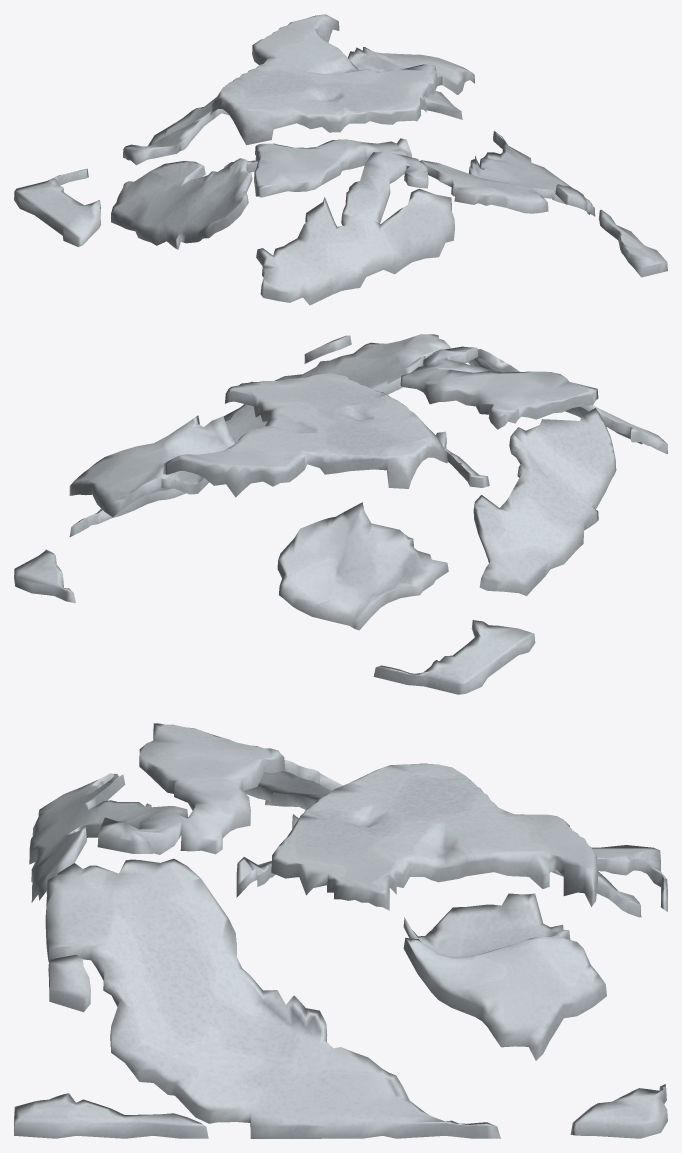
The model's file is Canions_2_Snow.fbx.
The picture shows the model from 3 angles, top to bottom: view 1: azimuth 30°, elevation 25°; view 2: azimuth 150°, elevation 25°; view 3: azimuth 270°, elevation 25°; orthographic projection. The views are drawn at different scales.
Visible parts, largest first — view 1: Canions_2_Snow_LOD0; view 2: Canions_2_Snow_LOD0; view 3: Canions_2_Snow_LOD0.
Part boxes in pixels (x1,y1,x2,y2): Canions_2_Snow_LOD0: (14,14,667,305); Canions_2_Snow_LOD0: (14,334,667,694); Canions_2_Snow_LOD0: (14,723,667,1138).
Size of what is drawn, in the model's own units: 960 by 286 by 940.
